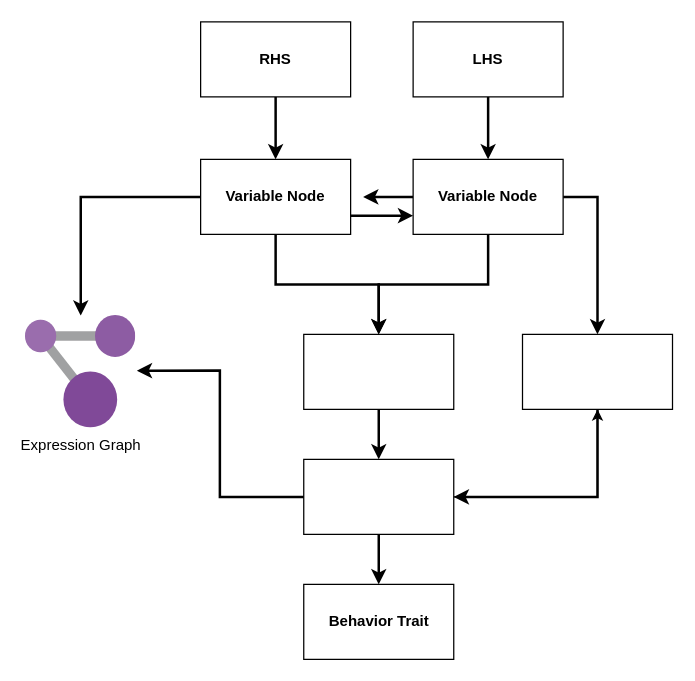
Image size: 695x681. Some labels were removed from this diagram. Here are the shapes that lost their labels. From the top down, the box of each, then its label:
(302, 333, 454, 409): Inputs
(521, 333, 672, 409): Upstream
(302, 458, 454, 534): Node
